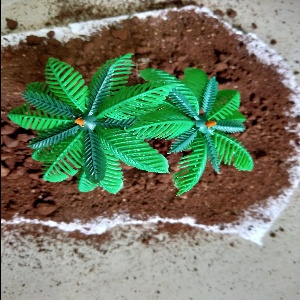plant: (17, 53, 263, 193)
